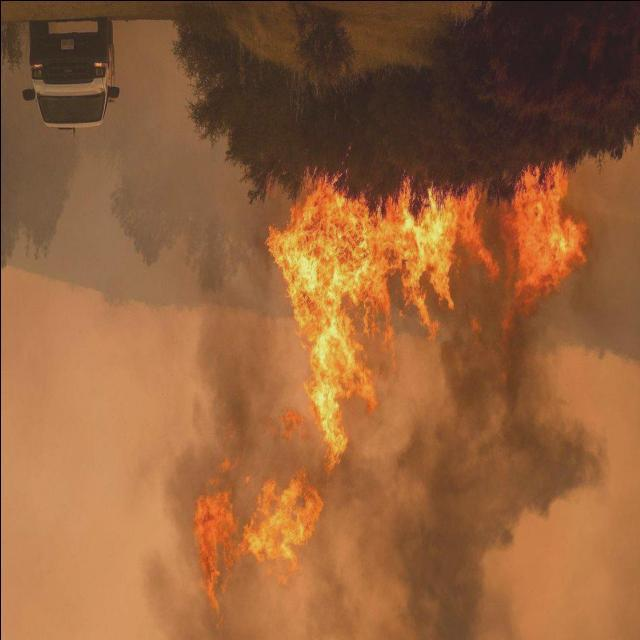Fire: (191, 184, 487, 630), (498, 167, 582, 305)
